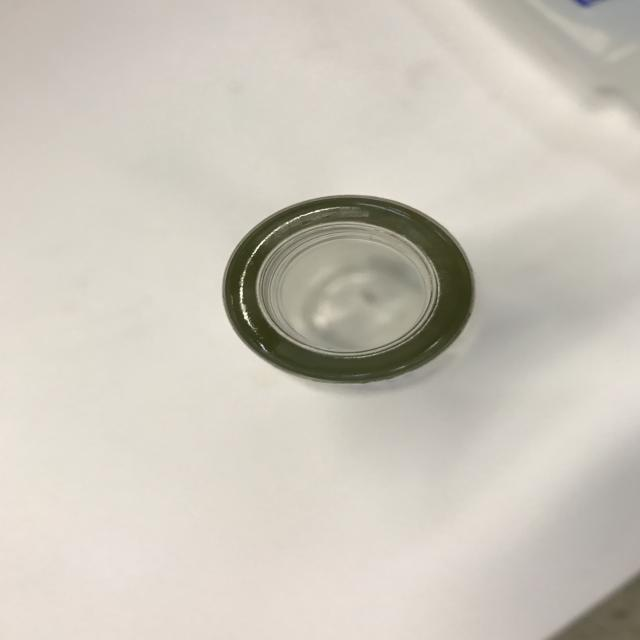glass: (222, 193, 476, 385)
